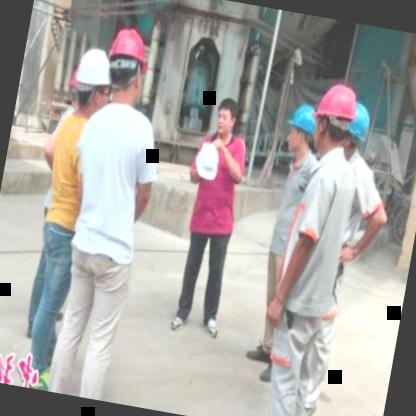helmet: (99, 23, 153, 110), (306, 76, 360, 160), (70, 39, 116, 120), (280, 96, 320, 163), (334, 100, 375, 164)
